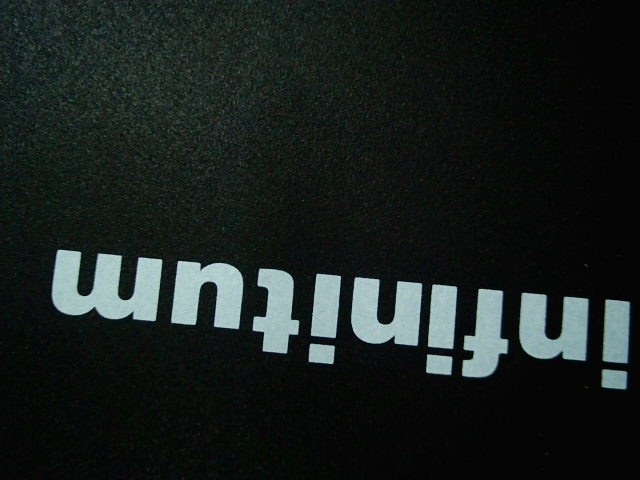BK_infinitum: (44, 242, 638, 396)
